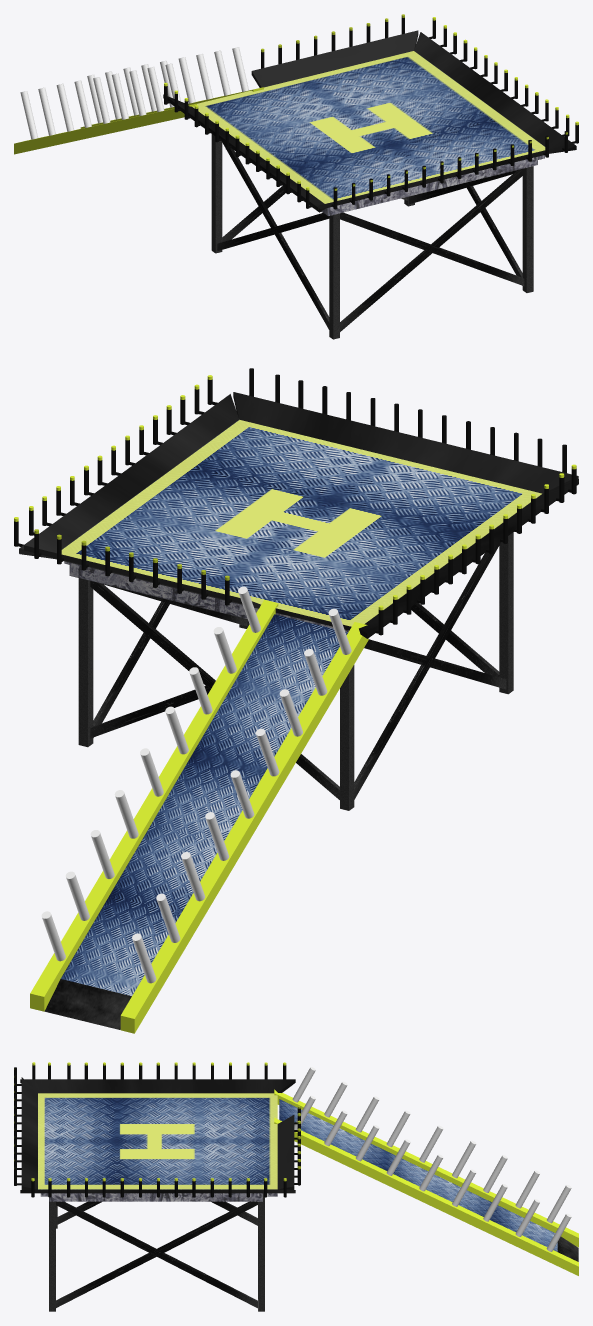
File: HeliPonto.obj
3 renders of one model, top to bottom at view 1: azimuth 30°, elevation 25°; view 2: azimuth 150°, elevation 25°; view 3: azimuth 270°, elevation 25°, orthographic. The views are drawn at different scales.
Visible parts, largest first — view 1: Cube, Cube.017_Cube.018, Cube.013_Cube.065, Cube.001_Cube.002, Cube.014_Cube.066, Cube.022_Cube.053, Cube.033_Cube.049, Cube.006_Cube.007, Cube.012_Cube.064, Cube.021_Cube.052, Cube.008_Cube.061, Cube.007_Cube.060 (+5 smaller); view 2: Cube, Cube.019_Cube.030, Cube.017_Cube.018, Cube.005_Cube.059, Cube.033_Cube.049, Cube.011_Cube.063, Cube.022_Cube.053, Cube.004_Cube.056, Cube.008_Cube.061, Cube.016_Cube.068, Cube.021_Cube.052, Cube.007_Cube.060 (+5 smaller); view 3: Cube, Cube.017_Cube.018, Cube.019_Cube.030, Cube.002_Cube.057, Cube.010_Cube.011, Cube.009_Cube.062, Cube.033_Cube.049, Cube.022_Cube.053, Cube.005_Cube.059, Cube.006_Cube.007, Cube.021_Cube.052, Cube.020_Cube.054.
Part boxes in pixels (<box>): Cube: <box>163,30,576,212</box>; Cube.017_Cube.018: <box>14,47,263,154</box>; Cube.013_Cube.065: <box>340,168,524,331</box>; Cube.001_Cube.002: <box>323,156,537,215</box>; Cube.014_Cube.066: <box>340,212,524,285</box>; Cube.022_Cube.053: <box>164,82,312,208</box>; Cube.033_Cube.049: <box>428,17,578,143</box>; Cube.006_Cube.007: <box>522,166,533,292</box>; Cube.012_Cube.064: <box>221,141,329,329</box>; Cube.021_Cube.052: <box>331,131,567,209</box>; Cube.008_Cube.061: <box>329,213,339,339</box>; Cube.007_Cube.060: <box>211,134,222,253</box>; Cube: <box>19,392,578,638</box>; Cube.019_Cube.030: <box>44,614,347,1029</box>; Cube.017_Cube.018: <box>30,586,368,1033</box>; Cube.005_Cube.059: <box>78,578,93,747</box>; Cube.033_Cube.049: <box>14,375,217,546</box>; Cube.011_Cube.063: <box>354,542,500,799</box>; Cube.022_Cube.053: <box>375,464,576,635</box>; Cube.004_Cube.056: <box>69,563,348,632</box>; Cube.008_Cube.061: <box>499,532,513,694</box>; Cube.016_Cube.068: <box>90,581,339,799</box>; Cube.021_Cube.052: <box>249,368,566,472</box>; Cube.007_Cube.060: <box>340,665,354,810</box>; Cube: <box>20,1077,295,1193</box>; Cube.017_Cube.018: <box>274,1067,578,1275</box>; Cube.019_Cube.030: <box>279,1099,578,1261</box>; Cube.002_Cube.057: <box>49,1193,262,1201</box>; Cube.010_Cube.011: <box>56,1201,257,1307</box>; Cube.009_Cube.062: <box>56,1201,257,1308</box>; Cube.033_Cube.049: <box>31,1178,286,1197</box>; Cube.022_Cube.053: <box>32,1062,286,1079</box>; Cube.005_Cube.059: <box>258,1193,264,1311</box>; Cube.006_Cube.007: <box>49,1197,55,1311</box>; Cube.021_Cube.052: <box>14,1067,21,1185</box>; Cube.020_Cube.054: <box>294,1105,300,1185</box>.
Bounding box in the file's own units: 15.44 × 10.91 × 31.48.
15 materials, 5 textured.
